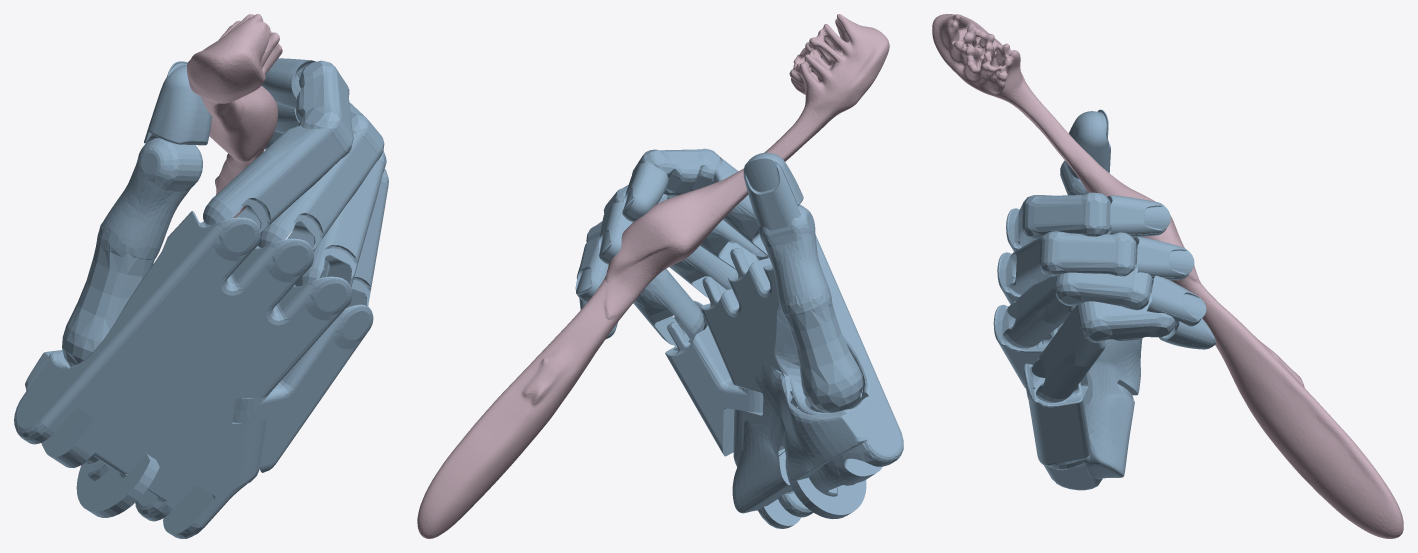
The picture shows the model from 3 angles, left to right: view 1: azimuth 30°, elevation 25°; view 2: azimuth 150°, elevation 25°; view 3: azimuth 270°, elevation 25°; orthographic projection. The views are drawn at different scales.
Parts seen in each view (by area): view 1: world, obj_mesh_grasp_0.obj; view 2: world, obj_mesh_grasp_0.obj; view 3: world, obj_mesh_grasp_0.obj.
Boxes of the visible parts, x1,y1,x2,y2 form: world: (14,58,388,538); obj_mesh_grasp_0.obj: (187,14,282,217); world: (575,148,903,528); obj_mesh_grasp_0.obj: (417,14,889,538); world: (993,109,1216,490); obj_mesh_grasp_0.obj: (932,14,1403,538).
Size of the model in its own units: 0.1623 by 0.2168 by 0.1938.
